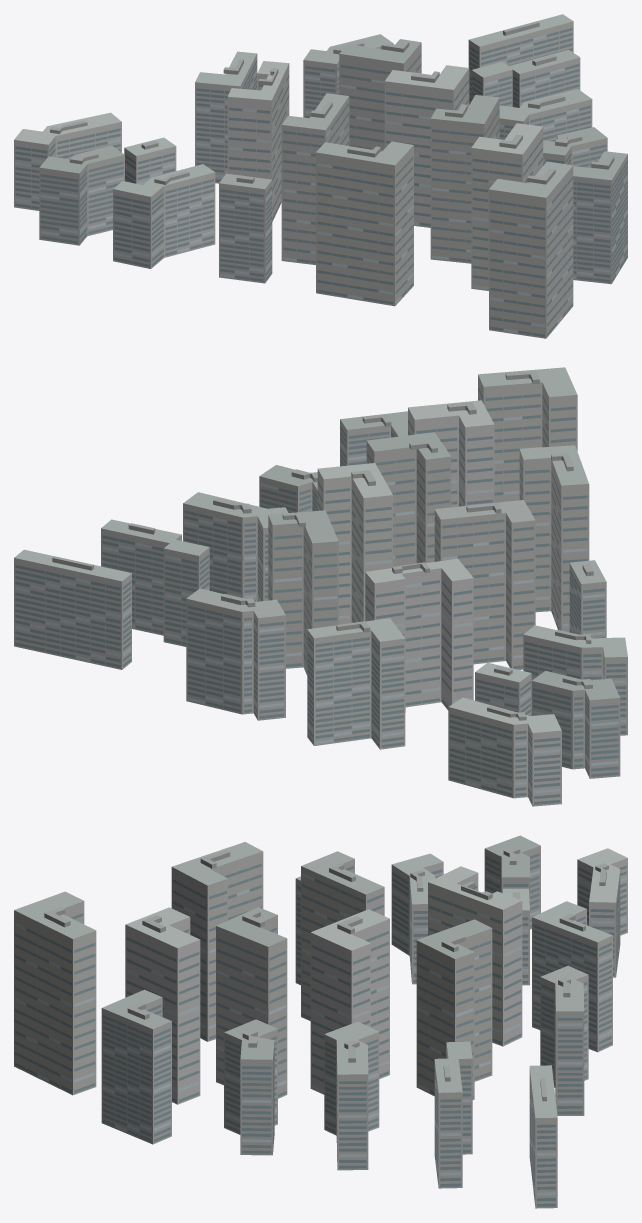
File: apt-a10025112.glb
3 renders of one model, top to bottom at view 1: azimuth 30°, elevation 25°; view 2: azimuth 150°, elevation 25°; view 3: azimuth 270°, elevation 25°, orthographic. The views are drawn at different scales.
Parts seen in each view (by area): view 1: apt-a10025112; view 2: apt-a10025112; view 3: apt-a10025112.
Boxes of the visible parts, x1,y1,x2,y2 form: apt-a10025112: (14,14,627,338); apt-a10025112: (14,367,627,806); apt-a10025112: (14,835,627,1208).
Size of the model in its own units: 352 by 90 by 312.
